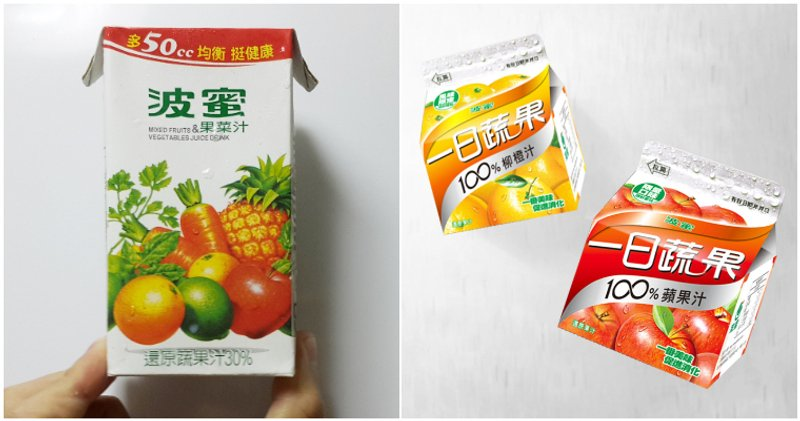vegetables juice: (91, 10, 304, 391)
